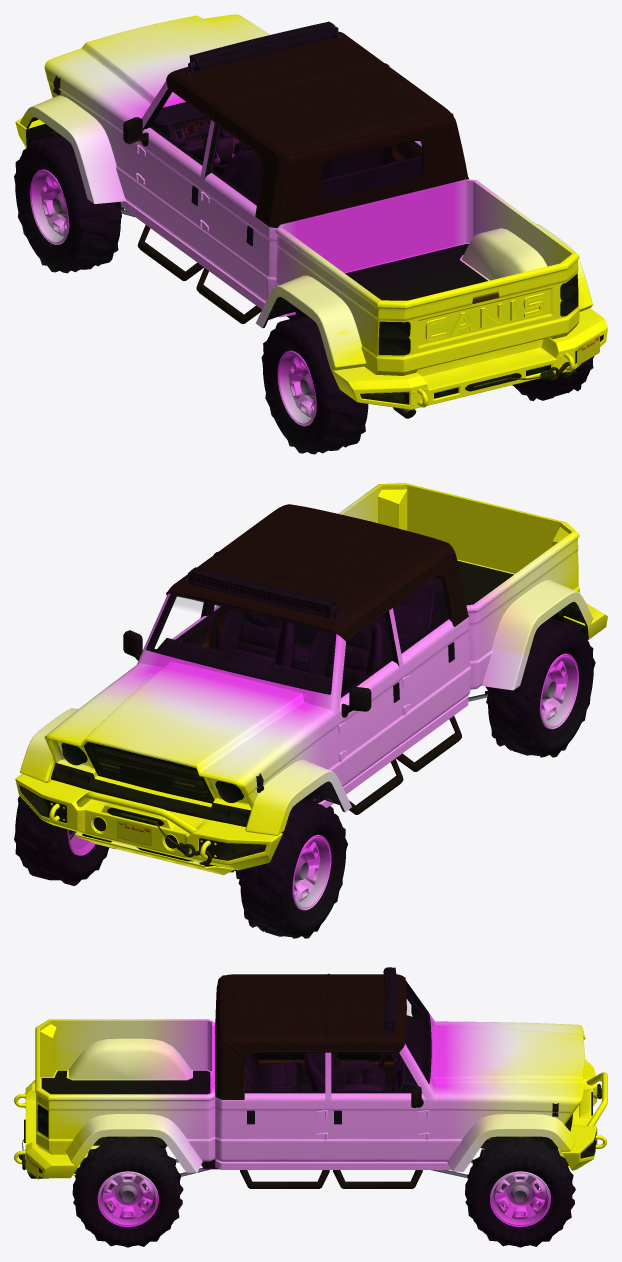
Rendered from kamacho.glb.
3 renders of one model, top to bottom at view 1: azimuth 30°, elevation 25°; view 2: azimuth 150°, elevation 25°; view 3: azimuth 270°, elevation 25°, orthographic. The views are drawn at different scales.
Visible parts, largest first — view 1: bodyshell, extra_1, bonnet, chassis, bumper_r, wheel_lf, boot, wheel_lr, door_dside_f, door_dside_r, misc_s, wheel_rr (+2 smaller); view 2: bodyshell, extra_1, bonnet, chassis, bumper_f, wheel_lf, wheel_lr, boot, door_dside_f, door_dside_r, wheel_rf, misc_g (+4 smaller); view 3: bodyshell, extra_1, bonnet, wheel_rr, wheel_rf, chassis, door_pside_f, door_pside_r, bumper_f, bumper_r, misc_s, door_dside_f (+1 smaller).
Part boxes in pixels (x1,y1,x2,y2): bodyshell: [20, 81, 592, 375]; extra_1: [166, 31, 468, 228]; bonnet: [44, 14, 269, 133]; chassis: [26, 21, 422, 327]; bumper_r: [330, 308, 607, 409]; wheel_lf: [14, 135, 121, 273]; boot: [411, 264, 559, 363]; wheel_lr: [261, 317, 368, 454]; door_dside_f: [123, 117, 202, 246]; door_dside_r: [202, 172, 257, 287]; misc_s: [137, 225, 261, 323]; wheel_rr: [512, 356, 594, 400]; bodyshell: [19, 483, 592, 835]; extra_1: [166, 504, 468, 641]; bonnet: [44, 665, 331, 795]; chassis: [75, 567, 587, 874]; bumper_f: [15, 774, 282, 870]; wheel_lf: [238, 799, 347, 938]; wheel_lr: [486, 617, 595, 757]; boot: [410, 485, 558, 573]; door_dside_f: [339, 660, 401, 781]; door_dside_r: [400, 619, 456, 734]; wheel_rf: [14, 796, 108, 885]; misc_g: [92, 746, 210, 799]; bodyshell: [35, 984, 576, 1172]; extra_1: [215, 973, 406, 1099]; bonnet: [439, 1021, 585, 1113]; wheel_rr: [72, 1136, 183, 1247]; wheel_rf: [465, 1136, 575, 1247]; chassis: [72, 967, 569, 1178]; door_pside_f: [331, 1085, 426, 1158]; door_pside_r: [244, 1091, 325, 1158]; bumper_f: [562, 1059, 607, 1170]; bumper_r: [14, 1080, 78, 1179]; misc_s: [240, 1170, 422, 1188]; door_dside_f: [334, 1005, 420, 1085].
Bounding box in the file's own units: 2.47 × 2.21 × 5.81.
Materials: 20 (20 with a texture image).
